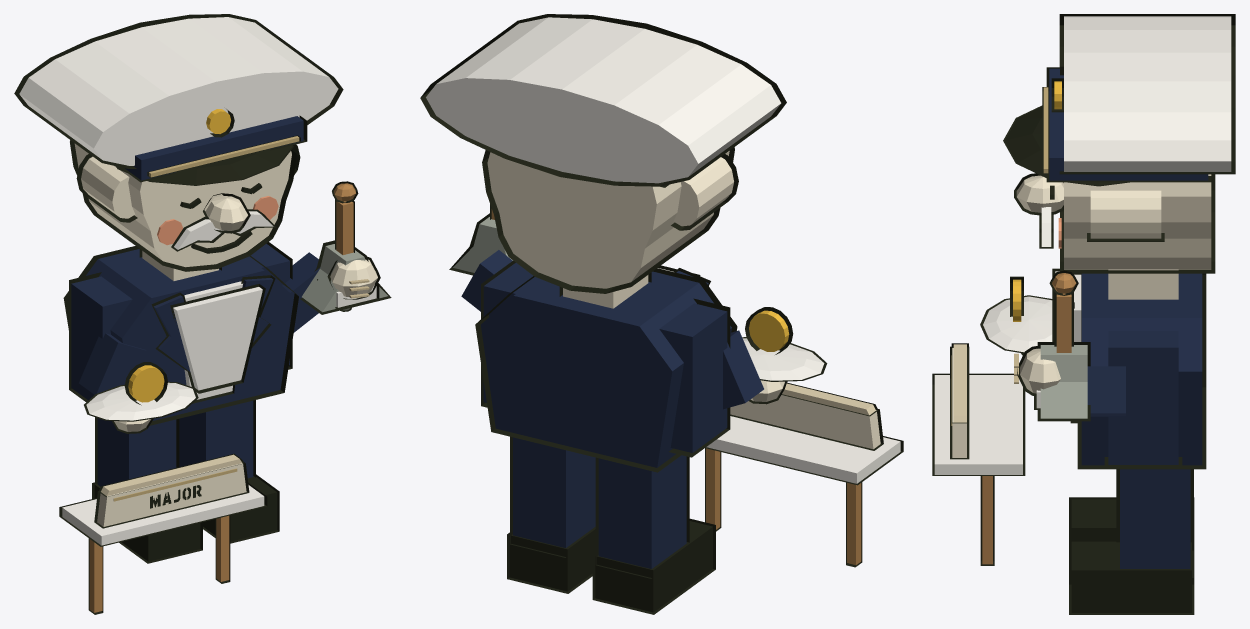
3 views of the same model, side by side, from view 1: azimuth 30°, elevation 25°; view 2: azimuth 150°, elevation 25°; view 3: azimuth 270°, elevation 25° (orthographic). The views are drawn at different scales.
Parts seen in each view (by area): view 1: Link Marine; view 2: Link Marine; view 3: Link Marine.
Boxes of the visible parts, left/top/right/bottom form: Link Marine: left=14, top=14, right=391, bottom=614; Link Marine: left=420, top=14, right=903, bottom=614; Link Marine: left=932, top=14, right=1235, bottom=614.
Bounding box in the file's own units: 0.7462 × 0.9942 × 0.5155.
